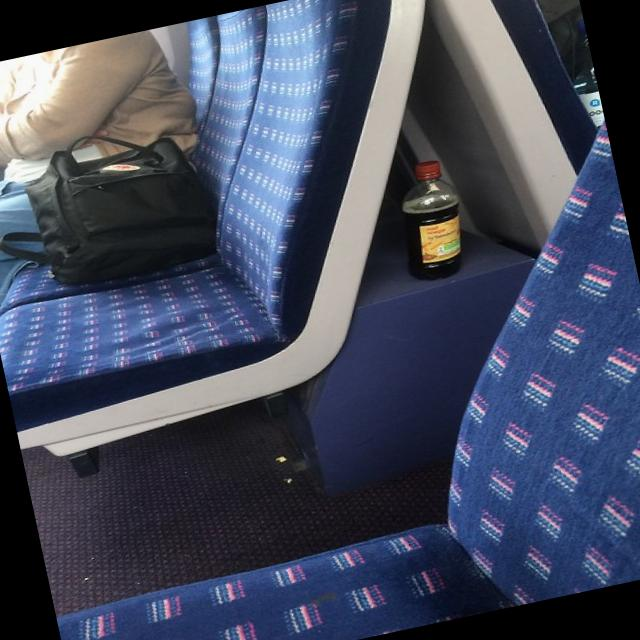Trash: (389, 147, 478, 286)
